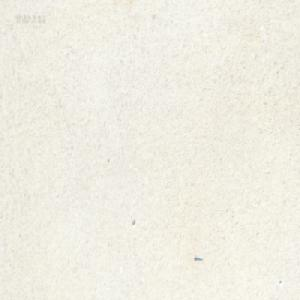Nail: (194, 255, 202, 262)
